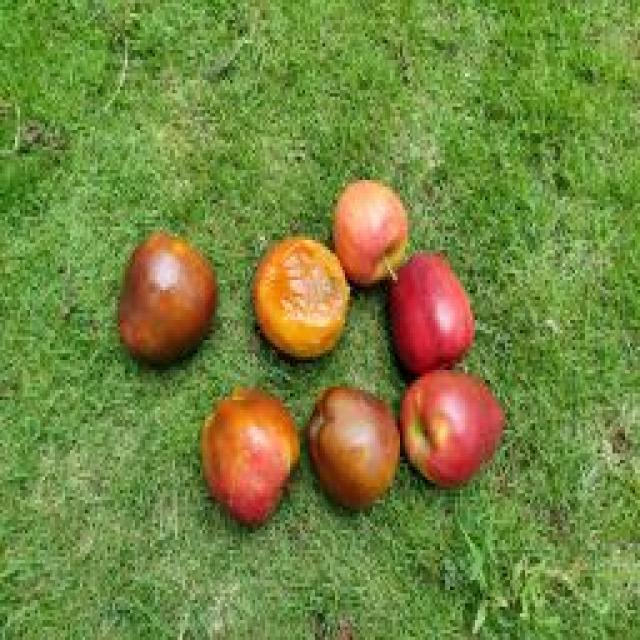Organik: (110, 233, 231, 377), (244, 210, 353, 366), (398, 354, 516, 493), (196, 384, 308, 528), (308, 379, 402, 528), (382, 248, 487, 372), (331, 174, 412, 290)
